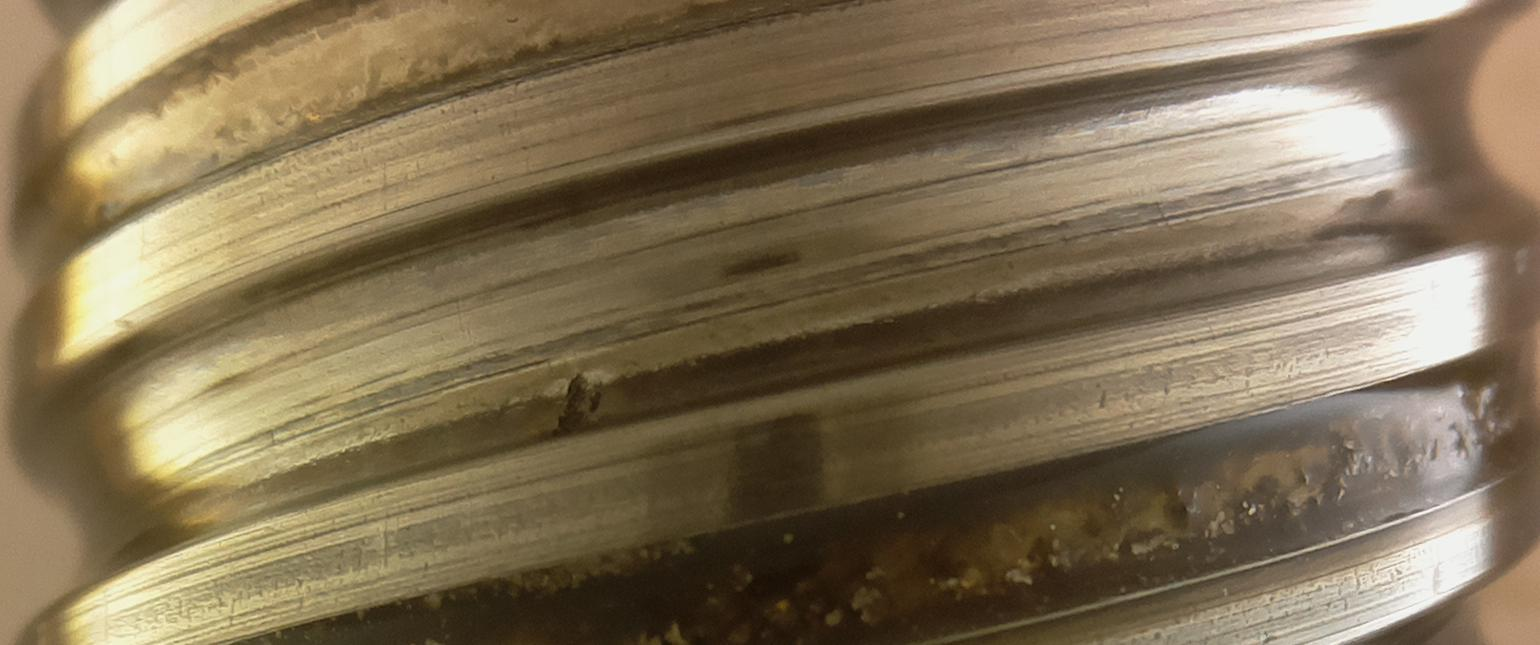pitting: (559, 375, 587, 432), (590, 392, 600, 411)
